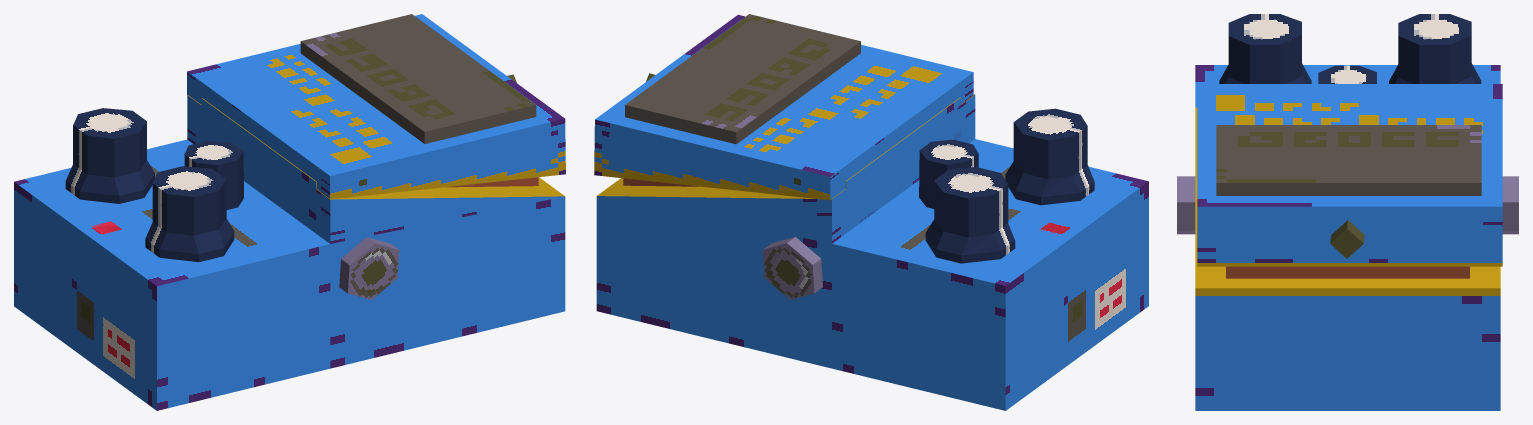
Rendered from Boss_BD2.gltf.
3 renders of one model, left to right at view 1: azimuth 30°, elevation 25°; view 2: azimuth 150°, elevation 25°; view 3: azimuth 270°, elevation 25°, orthographic. The views are drawn at different scales.
Size of the model in its own units: 4.32 by 1.97 by 2.8.
1 material, 1 textured.
